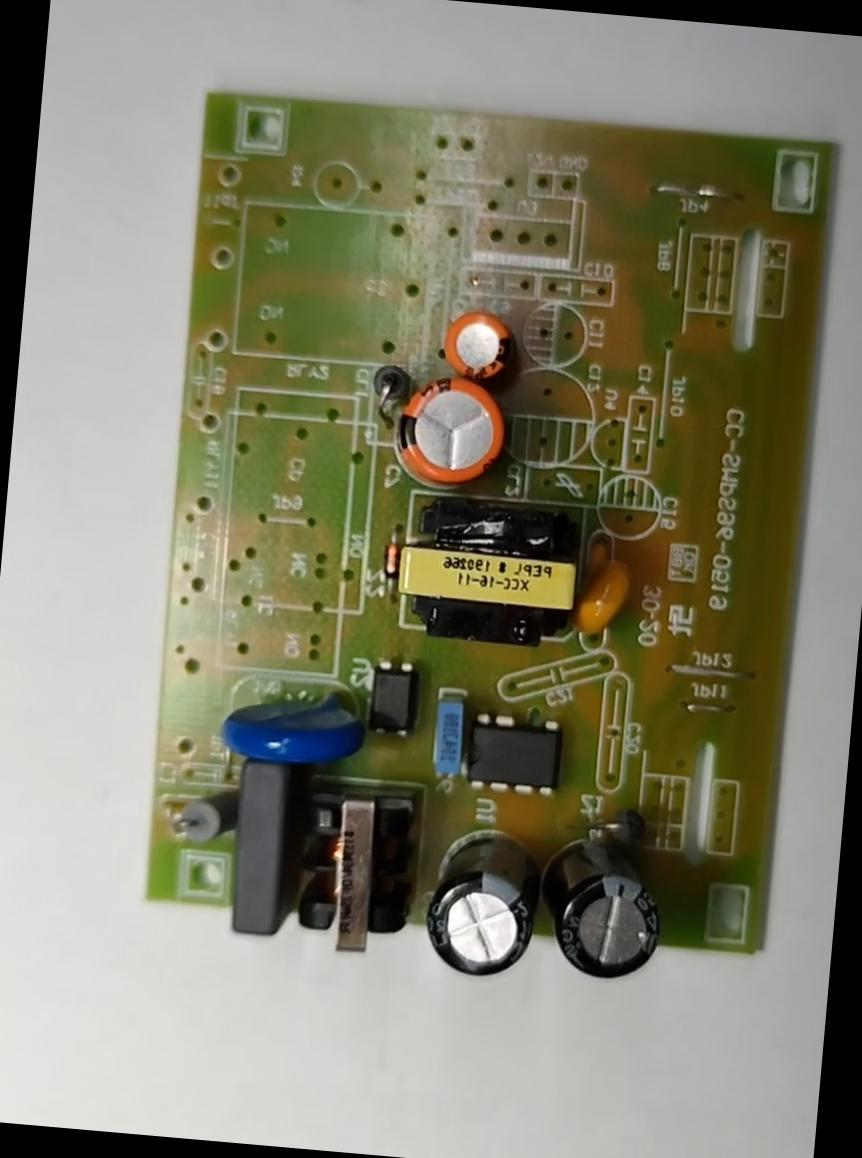Cap1: (380, 364, 514, 495)
Cap2: (433, 298, 526, 393)
Cap3: (412, 816, 551, 988)
Cap4: (532, 815, 672, 991)
MOSFET: (454, 704, 574, 802)
Mov: (212, 667, 380, 780)
Resistor: (168, 774, 244, 854)
Transformer: (382, 482, 592, 660), (283, 769, 428, 964)
